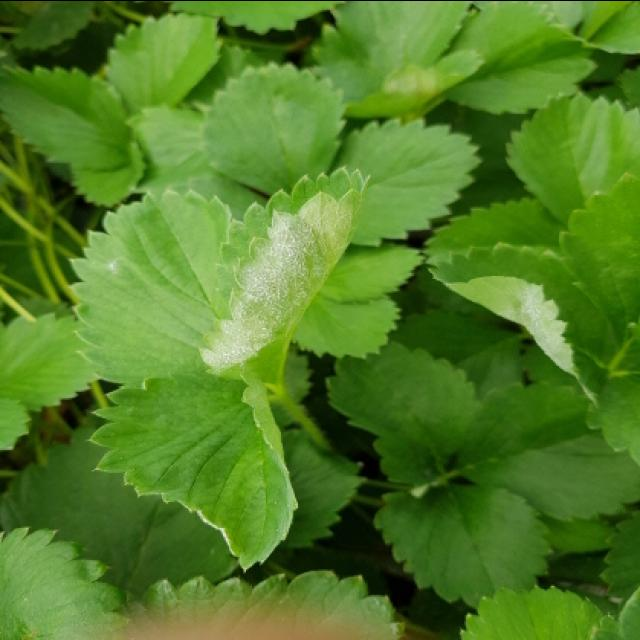Powdery Mildew Leaf: (84, 360, 299, 574), (198, 163, 372, 377), (66, 184, 236, 387), (427, 238, 625, 408)
